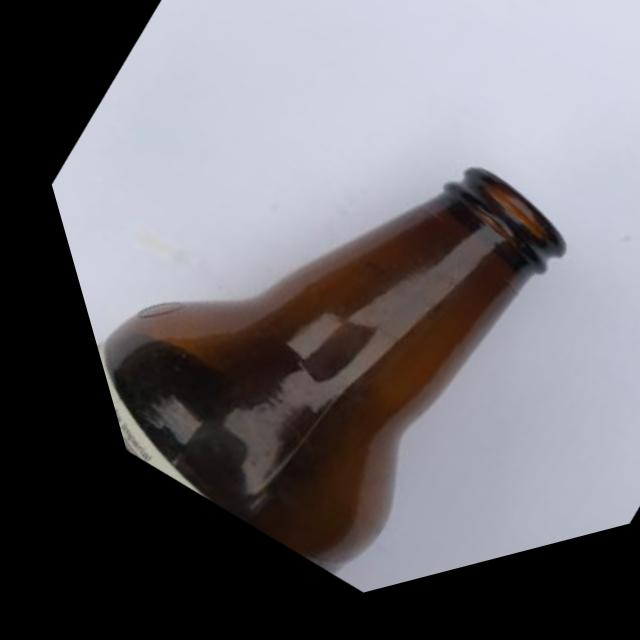glass: (15, 0, 640, 640)
